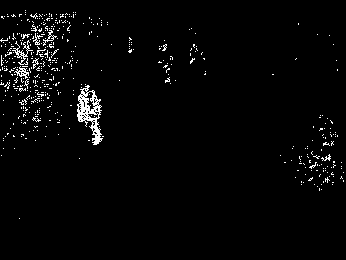person: (75, 83, 105, 147)
